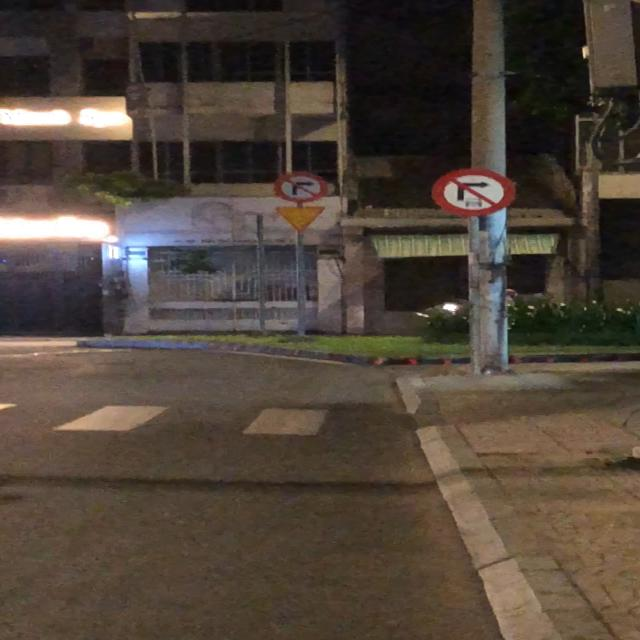Bien bao cam re phai: (272, 171, 330, 202)
Bien bao cam xe o to re phai: (431, 166, 520, 216)
Bien bao giao nhau voi duong uu tien: (272, 203, 330, 234)
